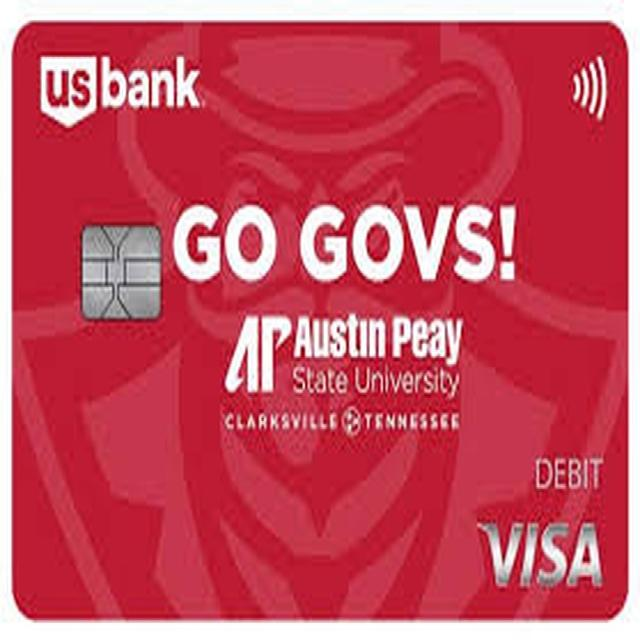card: (2, 11, 627, 632)
